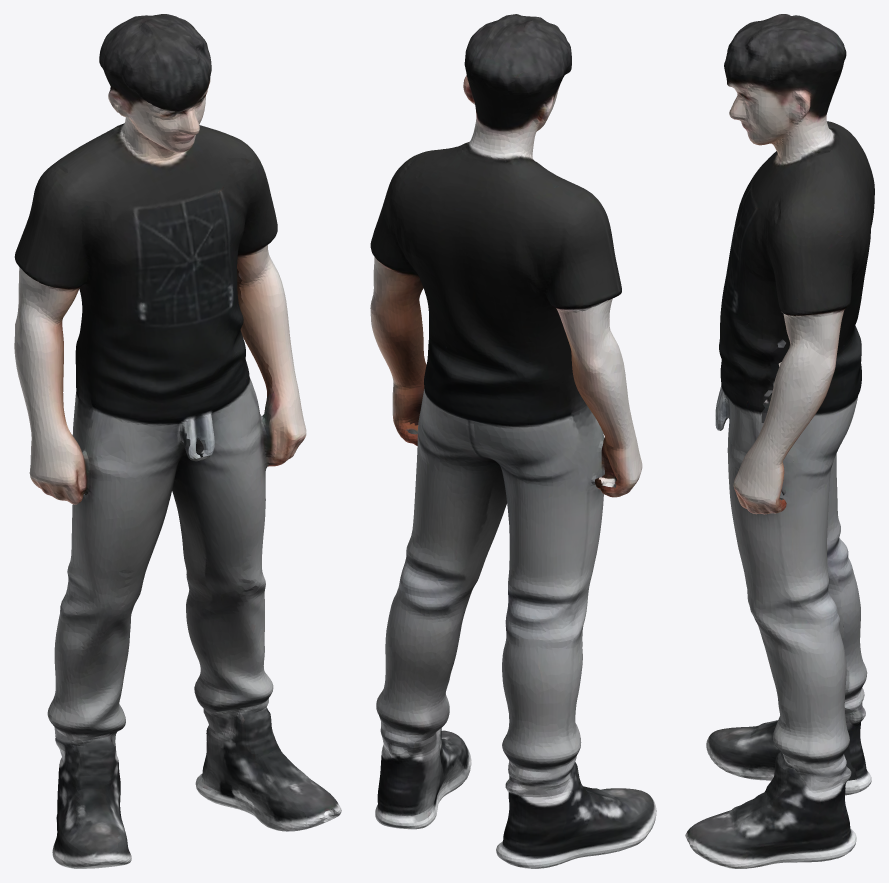
The model's file is main-m.glb.
The picture shows the model from 3 angles, left to right: view 1: azimuth 30°, elevation 25°; view 2: azimuth 150°, elevation 25°; view 3: azimuth 270°, elevation 25°; orthographic projection. The views are drawn at different scales.
Visible parts, largest first — view 1: tmp2c3dm56n.ply; view 2: tmp2c3dm56n.ply; view 3: tmp2c3dm56n.ply.
Boxes of the visible parts, x1,y1,x2,y2 form: tmp2c3dm56n.ply: (14, 14, 341, 868); tmp2c3dm56n.ply: (370, 14, 656, 868); tmp2c3dm56n.ply: (685, 14, 874, 868).
Bounding box in the file's own units: 0.6965 × 1.99 × 0.4361.
1 material, 1 textured.
